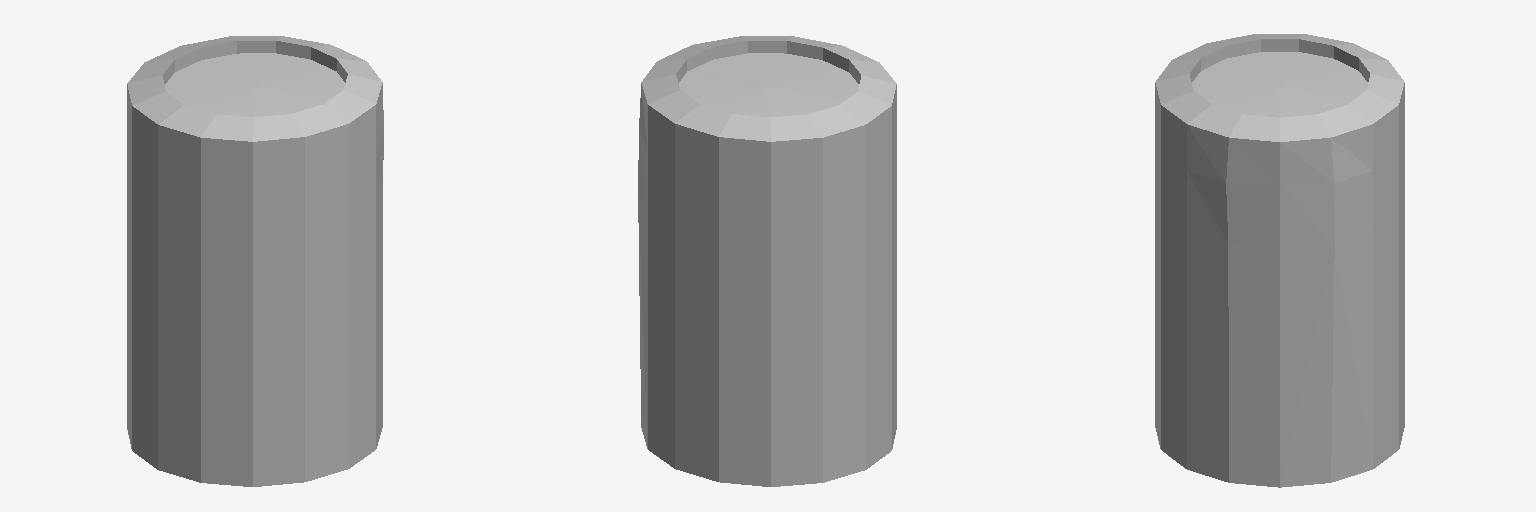
File: Dustbin.obj
The picture shows the model from 3 angles: view 1: azimuth 30°, elevation 25°; view 2: azimuth 150°, elevation 25°; view 3: azimuth 270°, elevation 25°; orthographic projection.
Visible parts, largest first — view 1: polySurface1 Dustbin2:pCylinder1; view 2: polySurface1 Dustbin2:pCylinder1; view 3: polySurface1 Dustbin2:pCylinder1.
Part boxes in pixels (x1,y1,x2,y2): polySurface1 Dustbin2:pCylinder1: (127,36,383,486); polySurface1 Dustbin2:pCylinder1: (638,36,896,486); polySurface1 Dustbin2:pCylinder1: (1155,34,1404,487).
Size of the model in its own units: 2.56 by 3.91 by 2.49.